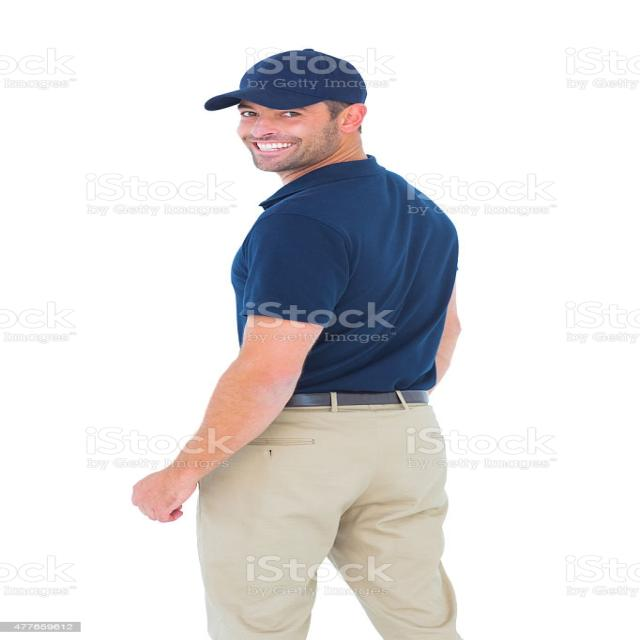3_gorra: (204, 49, 368, 111)
